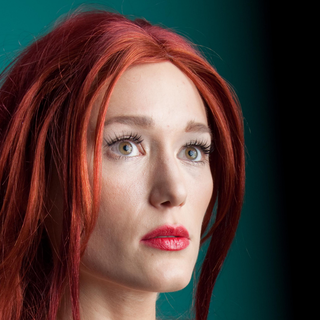eye: (100, 132, 151, 163), (173, 141, 212, 164)
